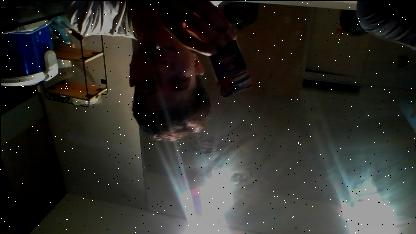Others: (203, 31, 250, 97)
